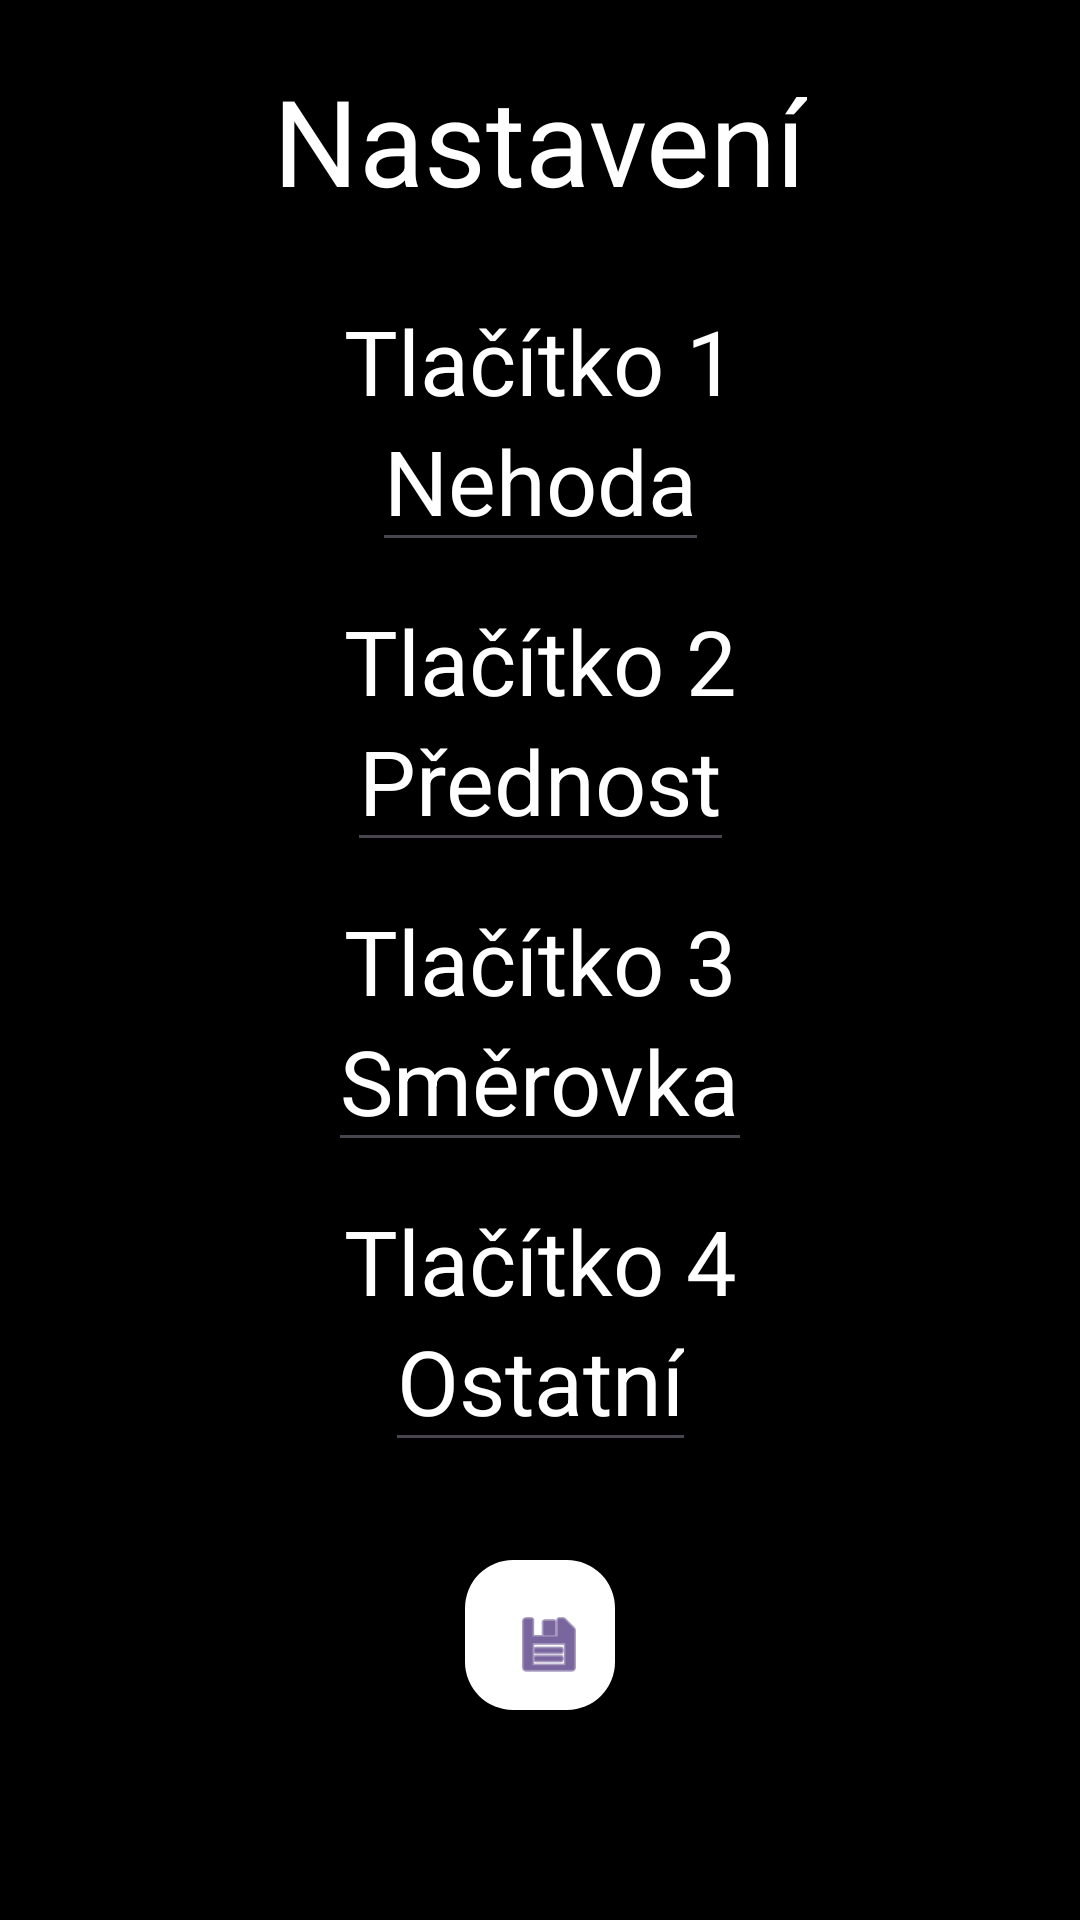

Screen size 1080w x 1920h. Icon name, then its center in pixels as (x=x, y=y):
save: (x=540, y=1635)
